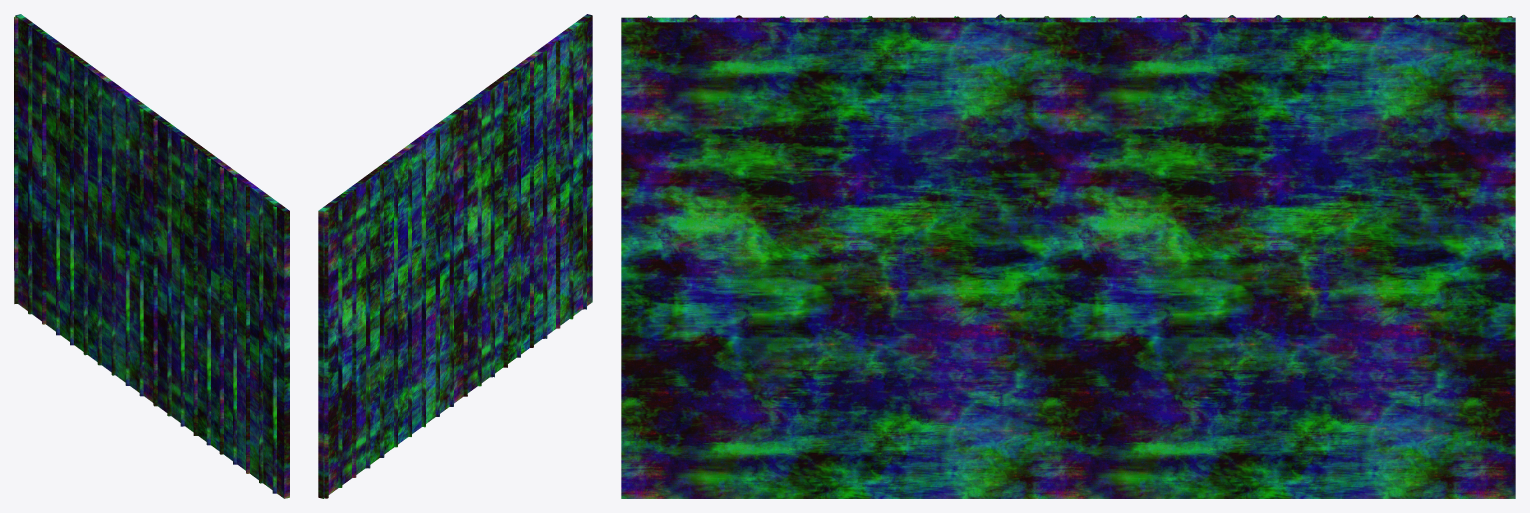
File: SM_CaptainWall_850.fbx
3 renders of one model, left to right at view 1: azimuth 30°, elevation 25°; view 2: azimuth 150°, elevation 25°; view 3: azimuth 270°, elevation 25°, orthographic. The views are drawn at different scales.
Visible parts, largest first — view 1: SM_CaptainWall_850_LOD0; view 2: SM_CaptainWall_850_LOD0; view 3: SM_CaptainWall_850_LOD0.
Boxes of the visible parts, x1,y1,x2,y2 form: SM_CaptainWall_850_LOD0: (14, 14, 289, 498); SM_CaptainWall_850_LOD0: (318, 14, 592, 498); SM_CaptainWall_850_LOD0: (621, 14, 1515, 498).
Bounding box in the file's own units: 15.24 × 850 × 503.
1 material, 1 textured.
